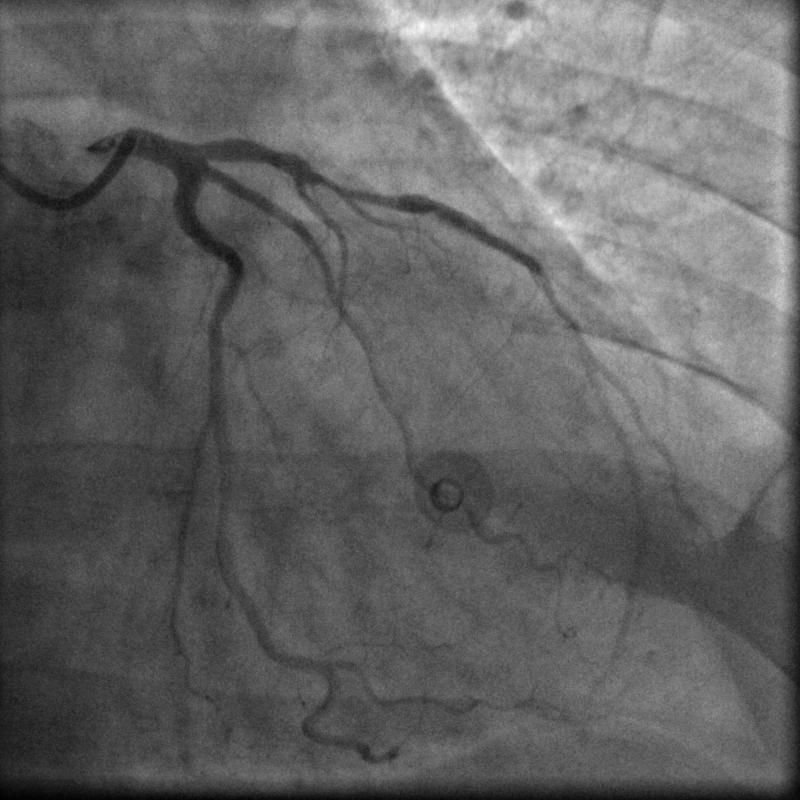Stenosis: (312, 166, 414, 211)
